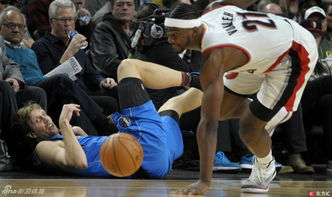fall: (17, 49, 202, 185)
